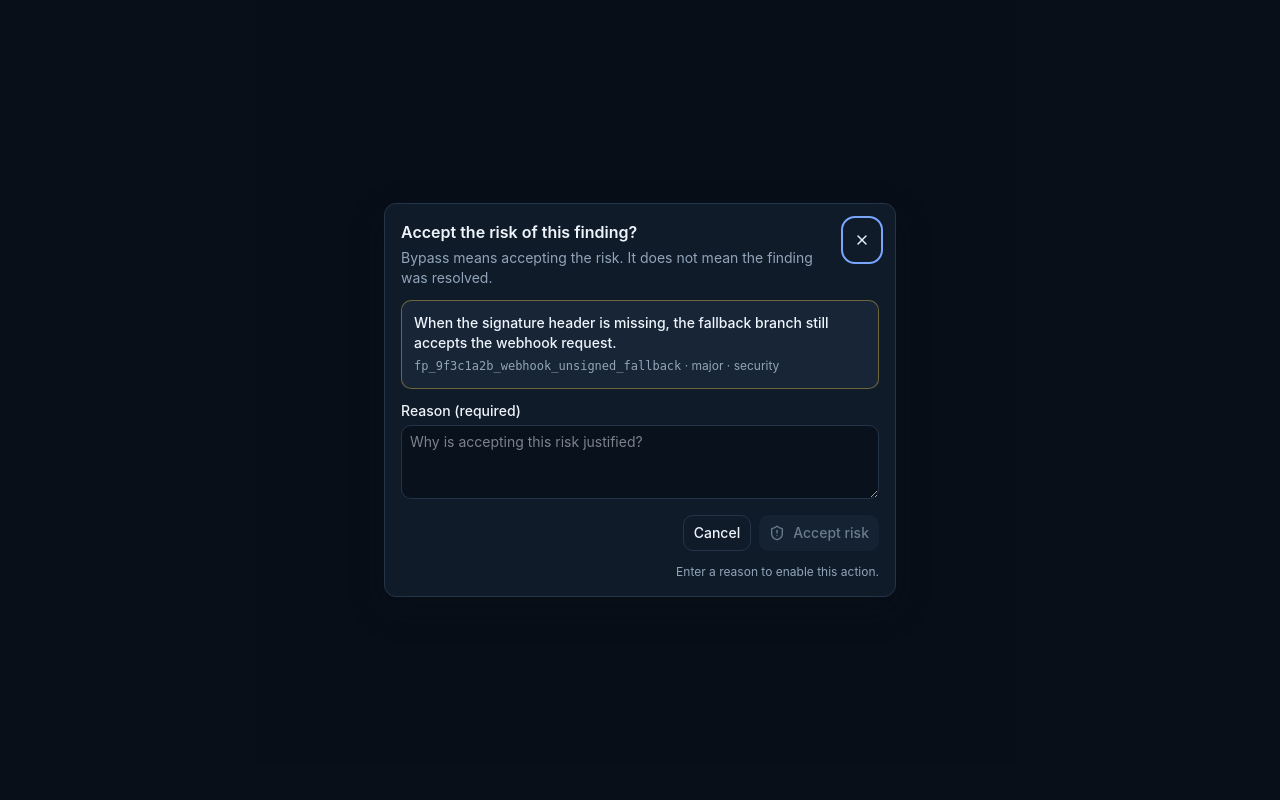
BypassRiskDialog (real submission) › 401 offers a real sign-in entry point
Type "reason" into the text box. click: (640, 462)
box: top-left (401, 424), bottom-right (879, 498)
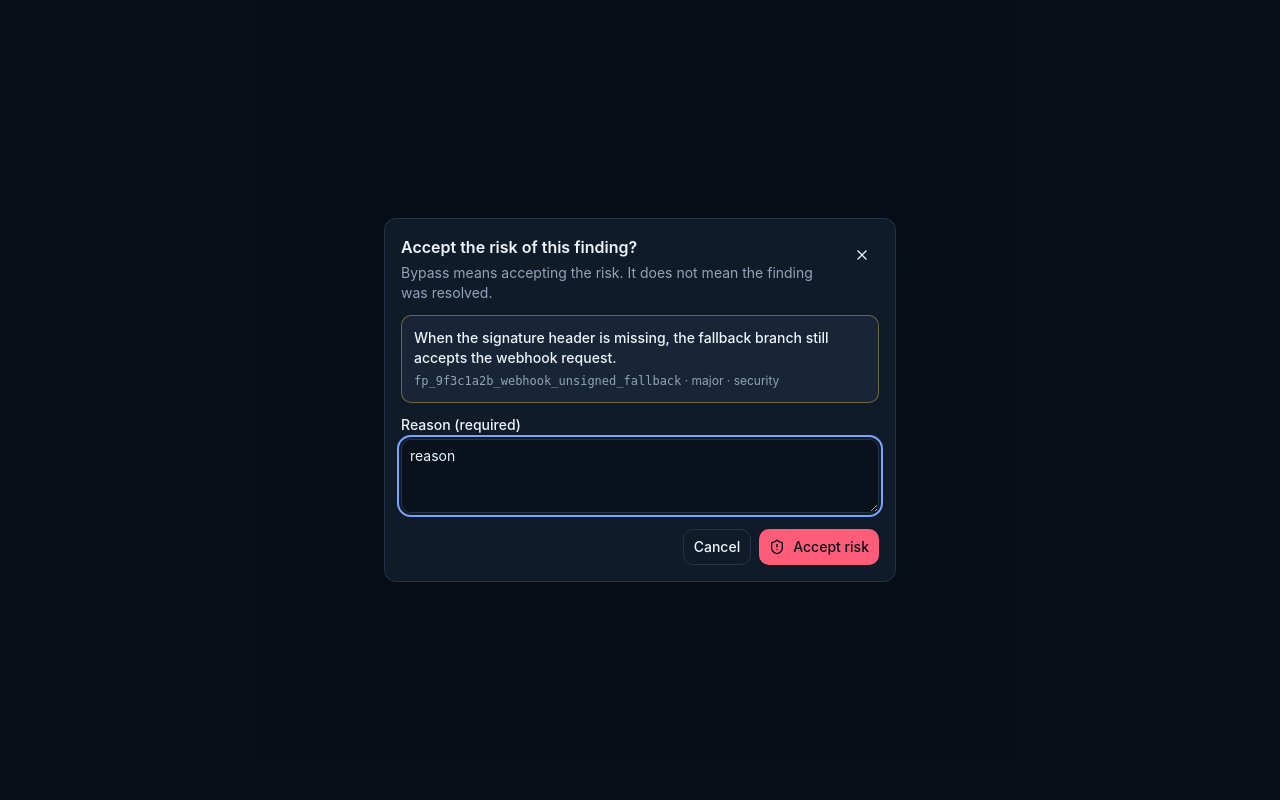
Click the button "Accept risk". click: (819, 547)
box: top-left (759, 529), bottom-right (879, 565)
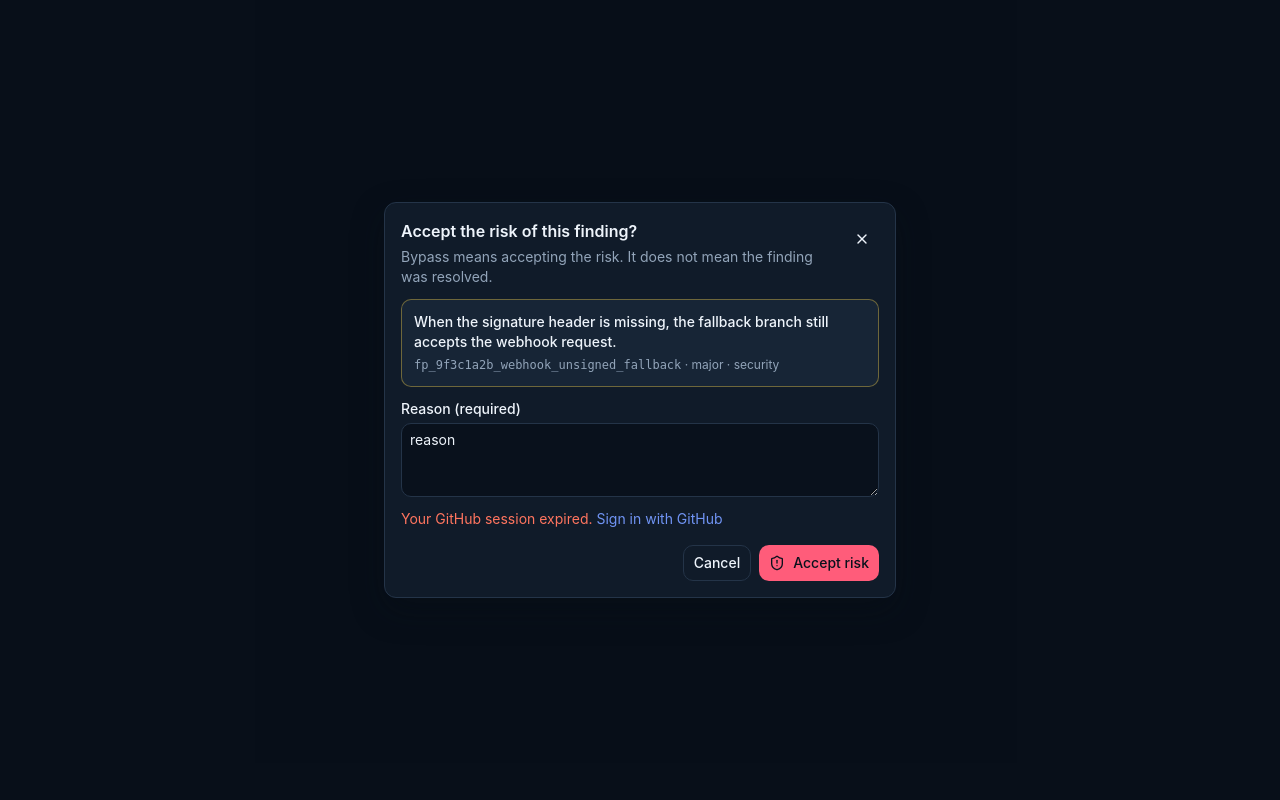
Expected: the message shows "session expired", top-left (401, 510), bottom-right (592, 527)
